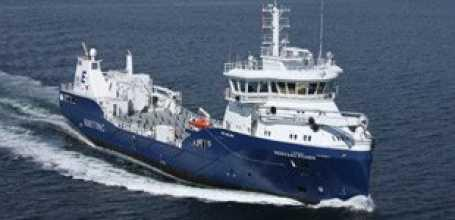Cargoship: (60, 1, 380, 201)
